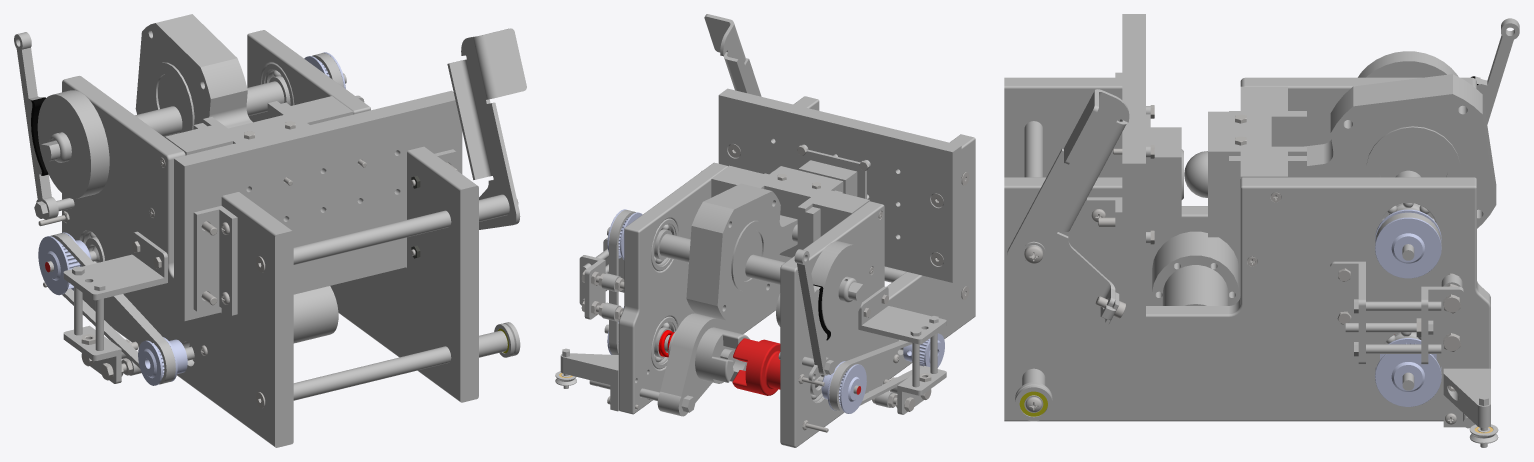
Rendered from StampingMachine-reAssemblyManuf.gltf.
3 views of the same model, side by side, from view 1: azimuth 30°, elevation 25°; view 2: azimuth 150°, elevation 25°; view 3: azimuth 270°, elevation 25° (orthographic). The views are drawn at different scales.
Parts seen in each view (by area): view 1: revisiCasingKiri, revisiBed, revisiCasingKann, tuasBending, revisiPistonMover2_001, SOLID001, LConnector, BRACKET ADJUST BAWAH001, asStructure001, asStructure, belt motor-clutch, break tuas manual_MIR (+16 smaller); view 2: revisiBed, revisiCasingKiri, revisiCasingKann, revisiPistonMover2_001, SOLID001, teflon clutch id20, BRACKET ADJUST BAWAH001, revisiPistonHea, revisiStamphingClutchSource, revisiPistonMover2_3, revisiStamphingClutch, break tuas manual_MIR (+20 smaller); view 3: revisiCasingKann, revisiCasingKiri, revisiPistonMover2_3, tuasBending, revisiBed, motorv2, contohCetak, revisiPistonHea, contohCetakBawah, GT2 40T id 5mm bw 7mm001, GT2 40T id 5mm bw 7mm, LConnector001 (+15 smaller).
Boxes of the visible parts, x1,y1,x2,y2 form: revisiCasingKiri: [62, 76, 293, 447]; revisiBed: [174, 90, 462, 321]; revisiCasingKann: [247, 30, 478, 402]; tuasBending: [447, 28, 526, 229]; revisiPistonMover2_001: [135, 18, 234, 137]; SOLID001: [37, 90, 109, 198]; LConnector: [193, 205, 237, 315]; BRACKET ADJUST BAWAH001: [63, 231, 167, 300]; asStructure001: [293, 210, 451, 264]; asStructure: [293, 346, 451, 400]; belt motor-clutch: [50, 233, 175, 384]; break tuas manual_MIR: [14, 32, 58, 219]; revisiBed: [718, 88, 961, 282]; revisiCasingKiri: [780, 134, 975, 447]; revisiCasingKann: [618, 96, 819, 414]; revisiPistonMover2_001: [702, 187, 797, 320]; SOLID001: [811, 241, 867, 332]; teflon clutch id20: [657, 313, 725, 416]; BRACKET ADJUST BAWAH001: [858, 286, 946, 344]; revisiPistonHea: [753, 172, 842, 257]; revisiStamphingClutchSource: [732, 338, 860, 395]; revisiPistonMover2_3: [686, 183, 782, 316]; revisiStamphingClutch: [668, 327, 749, 383]; break tuas manual_MIR: [794, 249, 831, 381]; revisiCasingKann: [1004, 177, 1490, 421]; revisiCasingKiri: [1004, 77, 1476, 305]; revisiPistonMover2_3: [1307, 84, 1496, 228]; tuasBending: [1007, 89, 1129, 317]; revisiBed: [1122, 14, 1145, 334]; motorv2: [1152, 231, 1239, 305]; contohCetak: [1184, 111, 1252, 237]; revisiPistonHea: [1229, 111, 1306, 237]; contohCetakBawah: [1146, 106, 1183, 243]; GT2 40T id 5mm bw 7mm001: [1375, 209, 1441, 278]; GT2 40T id 5mm bw 7mm: [1375, 338, 1441, 406]; LConnector001: [1087, 197, 1122, 319].
Bounding box in the file's own units: 0.191 × 0.1678 × 0.2181.
